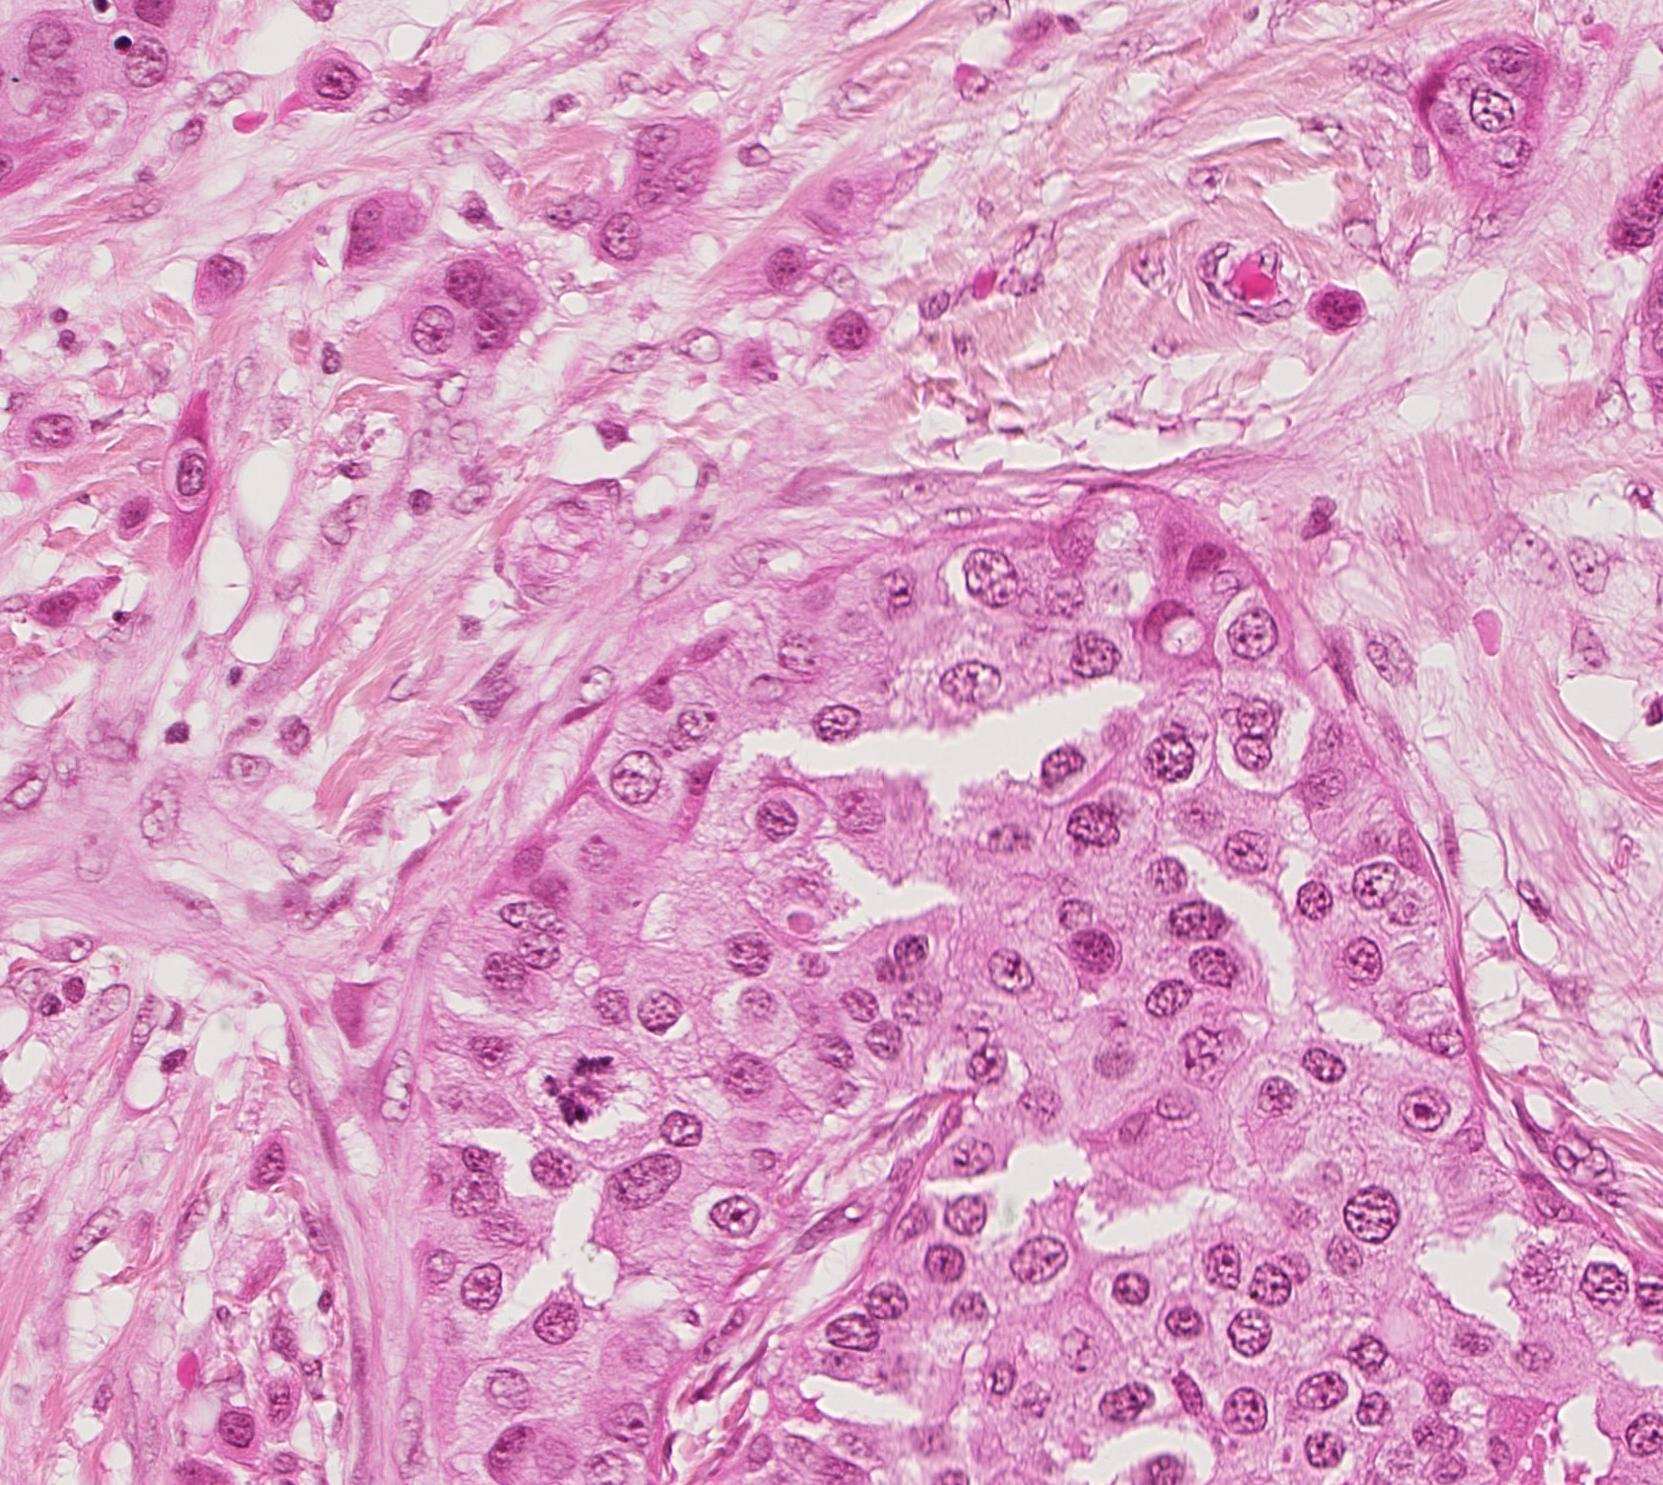mitosis: (546, 1052, 606, 1112)
